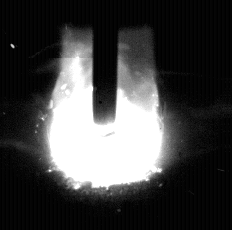arame: (93, 0, 118, 125)
poca: (48, 0, 162, 230)
